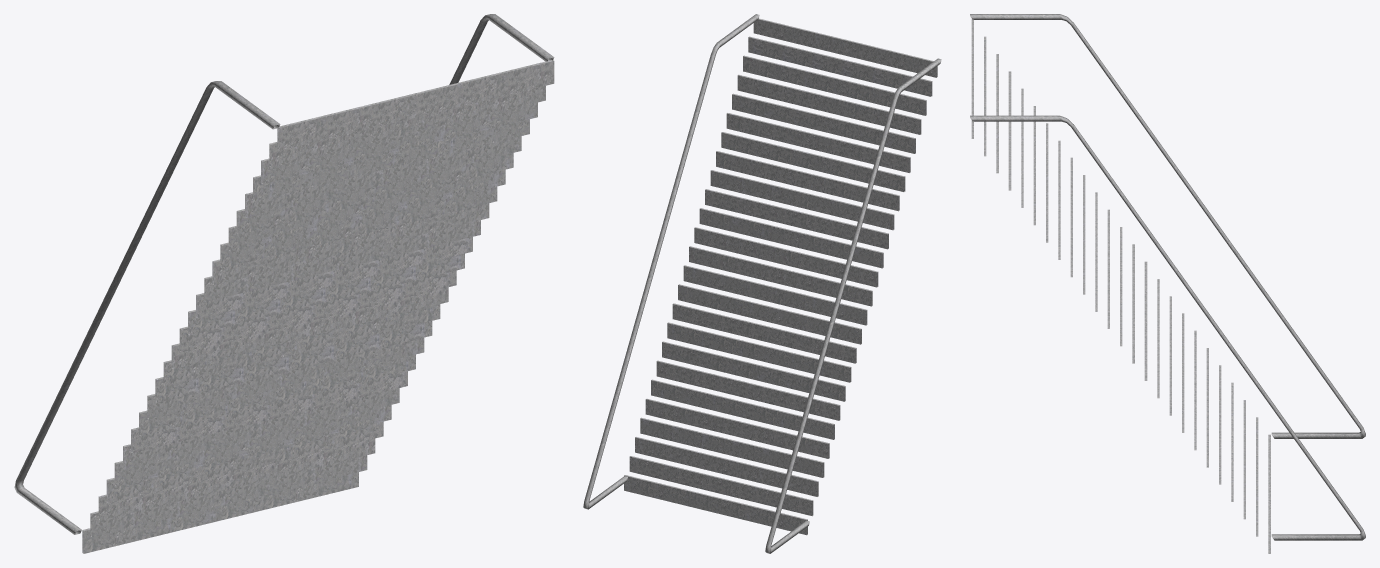
The model's file is _0STRAIGHTTENT01_01_001_SUB0.obj.
3 views of the same model, side by side, from view 1: azimuth 30°, elevation 25°; view 2: azimuth 150°, elevation 25°; view 3: azimuth 270°, elevation 25° (orthographic). The views are drawn at different scales.
Parts seen in each view (by area): view 1: _0STRAIGHTTENT01_01_001_SUB0_Scene.101; view 2: _0STRAIGHTTENT01_01_001_SUB0_Scene.101; view 3: _0STRAIGHTTENT01_01_001_SUB0_Scene.101.
Part boxes in pixels (left/top/right/bottom): _0STRAIGHTTENT01_01_001_SUB0_Scene.101: left=14, top=14, right=554, bottom=553; _0STRAIGHTTENT01_01_001_SUB0_Scene.101: left=583, top=14, right=941, bottom=553; _0STRAIGHTTENT01_01_001_SUB0_Scene.101: left=970, top=14, right=1365, bottom=553.
Bounding box in the file's own units: 311 × 608 × 500.
